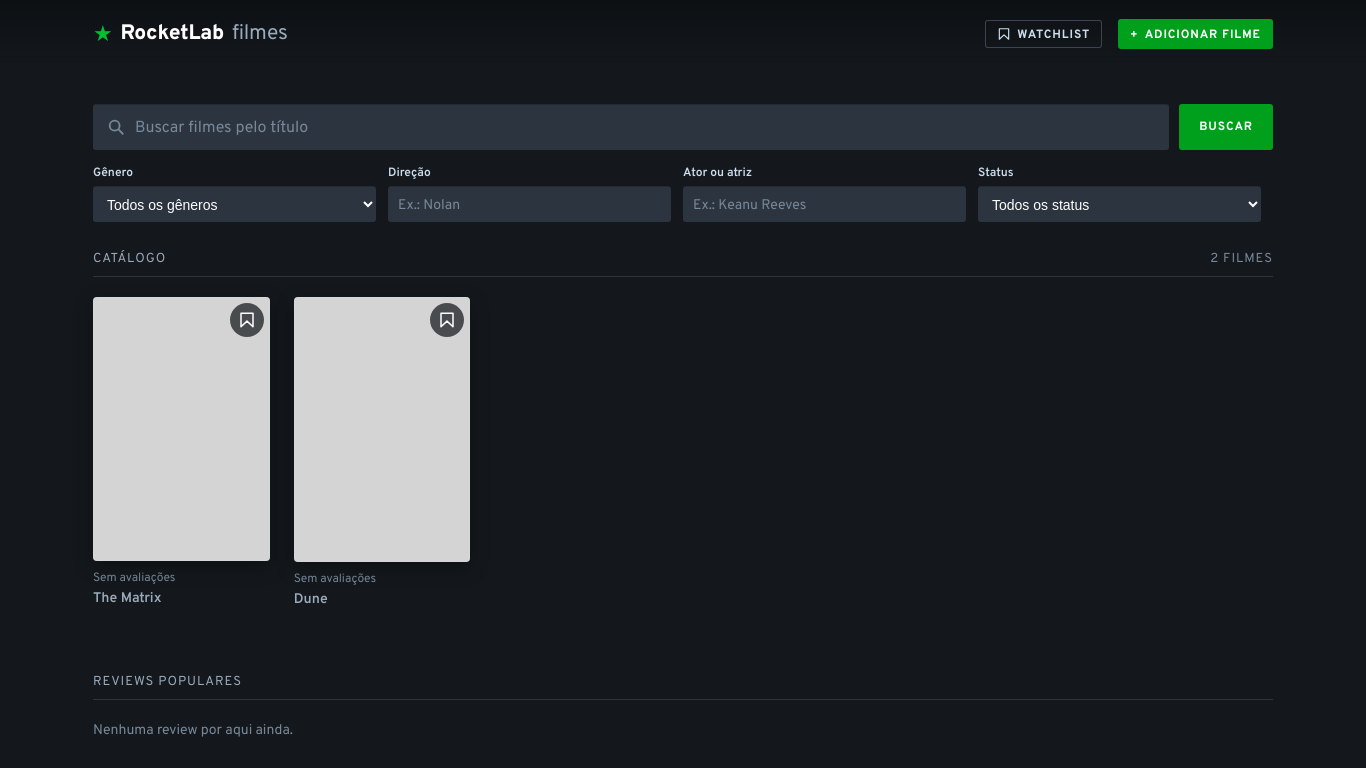
Test: Watchlist › o ícone de salvar do card guarda o filme na watchlist
Click the button named "Salvar The Matrix na watchlist". click: (247, 320)
box: [230, 302, 264, 336]
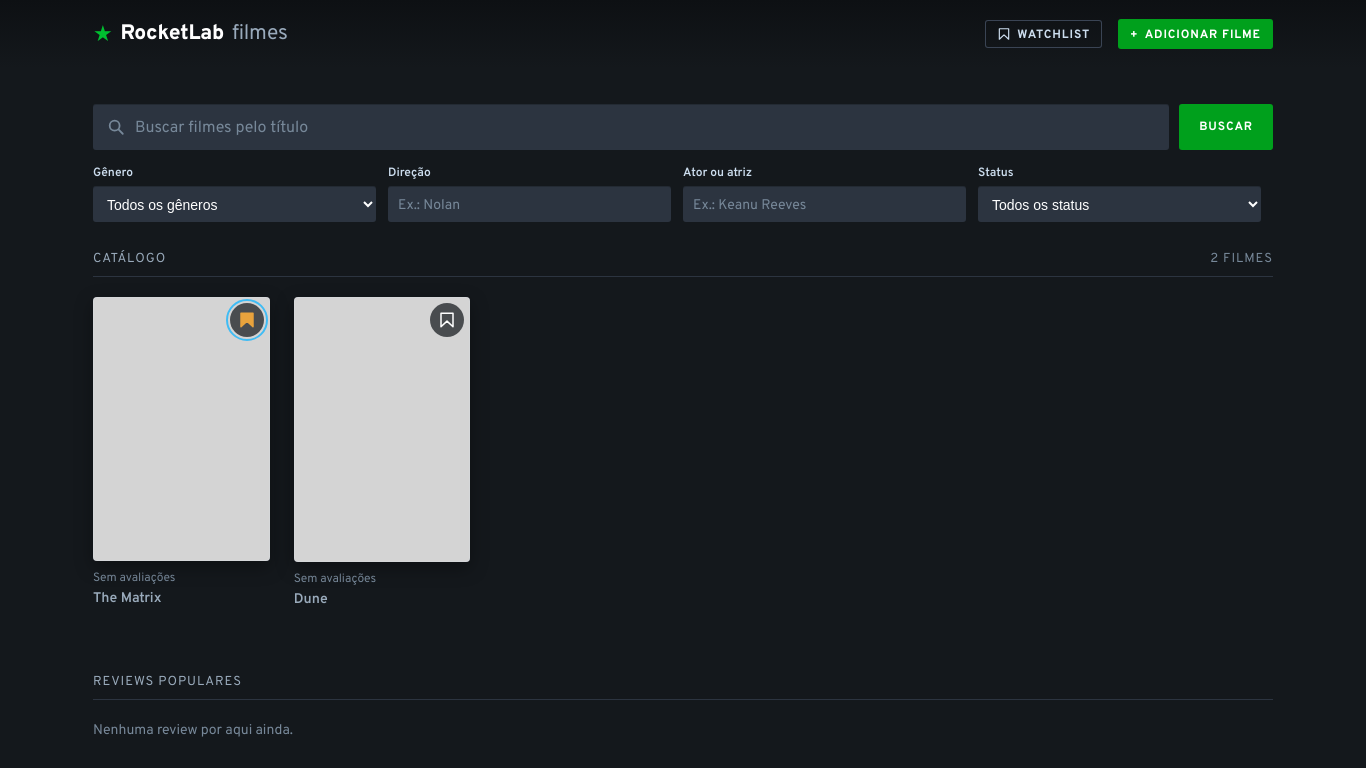
Expected: the button named "Salvar The Matrix na watchlist" is pressed, [230, 302, 264, 336]
Click the link "Watchlist". click: (1044, 34)
box: [985, 20, 1102, 48]
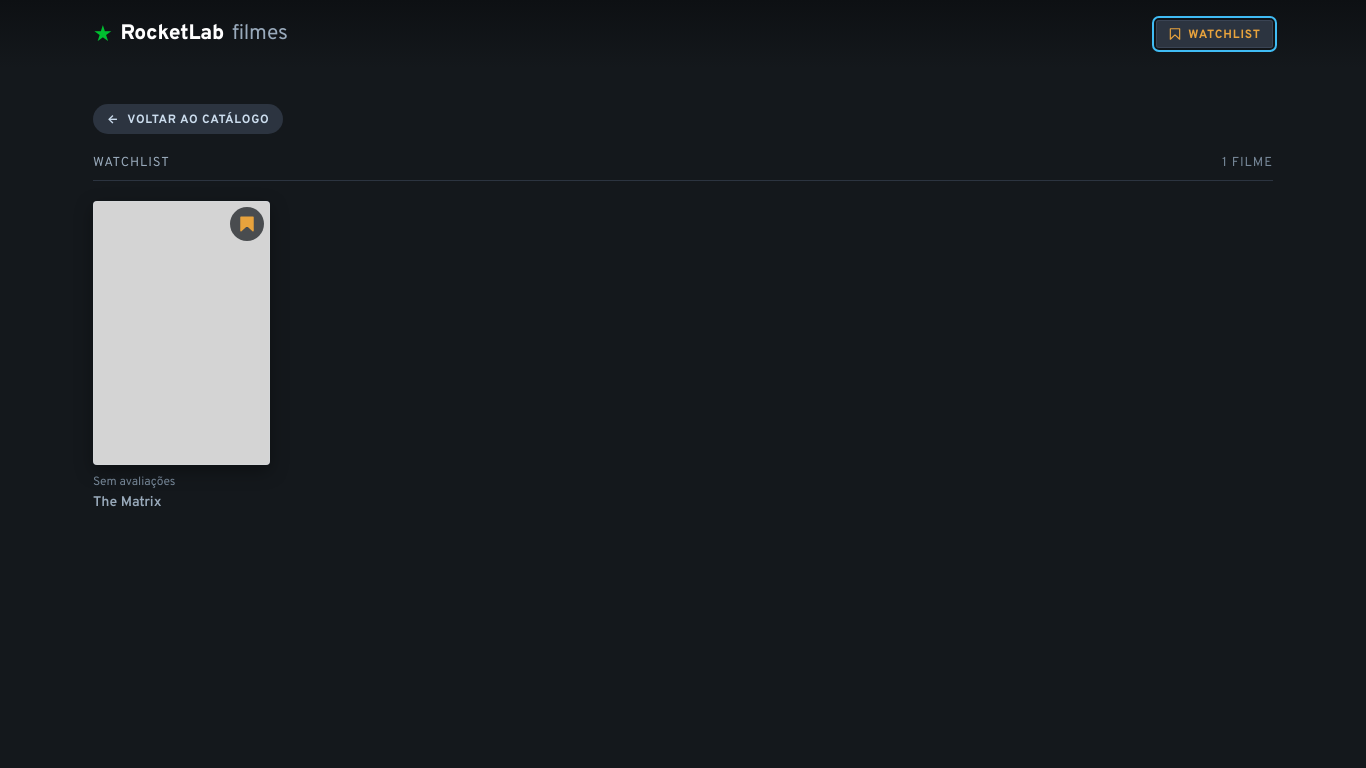
Expected: the link "Dune" is gone
